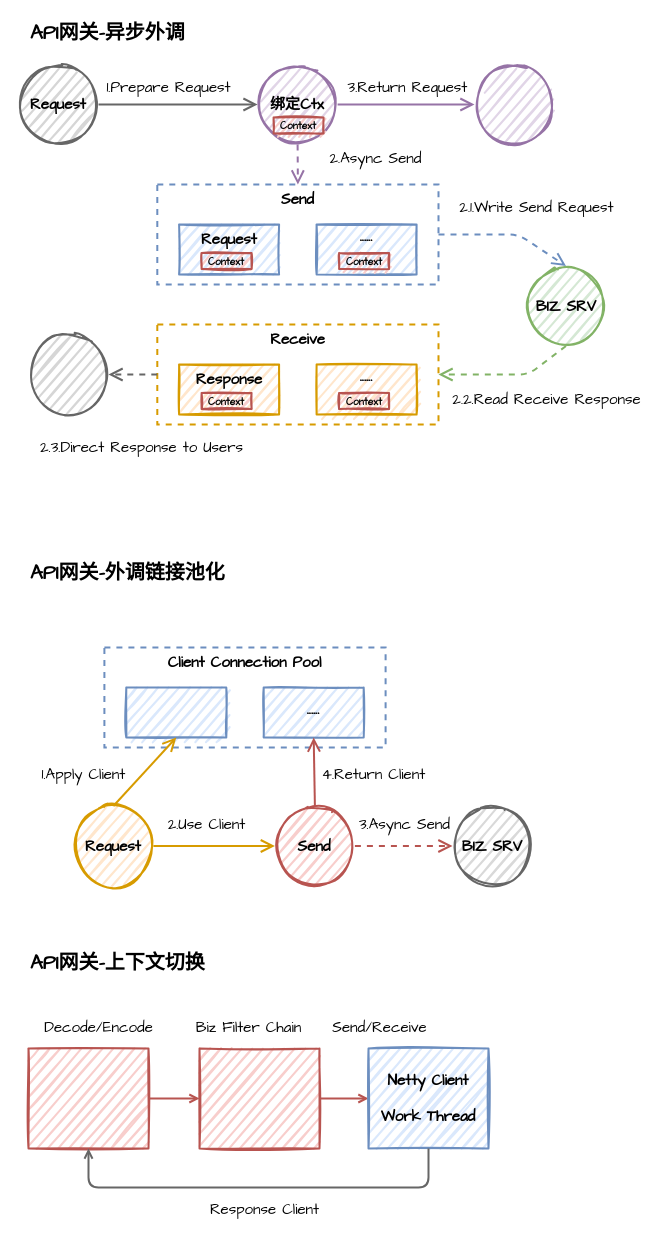
This 663x1236 diagram has some shape labels left out. Here are the shapes that lost their labels. From the top down, the centre of each, then its label:
At point (514, 104): "回收Thread".
At point (68, 374): "User Response".
At point (176, 712): "Client".
At point (88, 1098): "Netty Server IO Thread".
At point (259, 1098): "Netty Server Work Thread".
